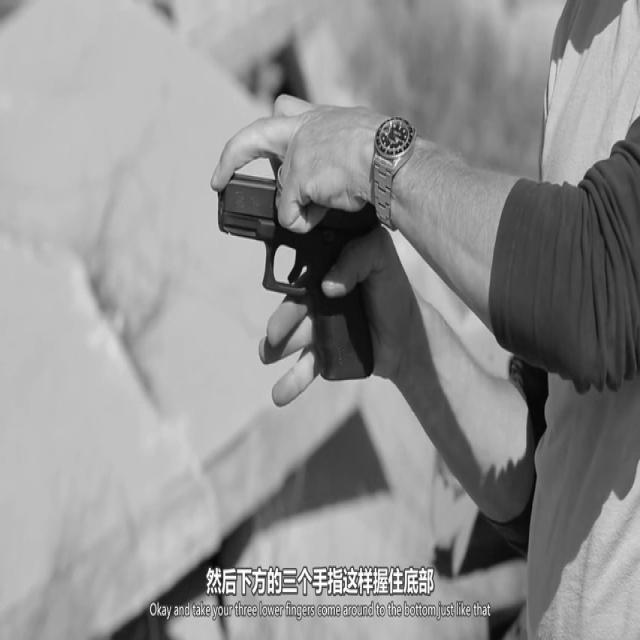Hand-Gun: (208, 137, 449, 567)
